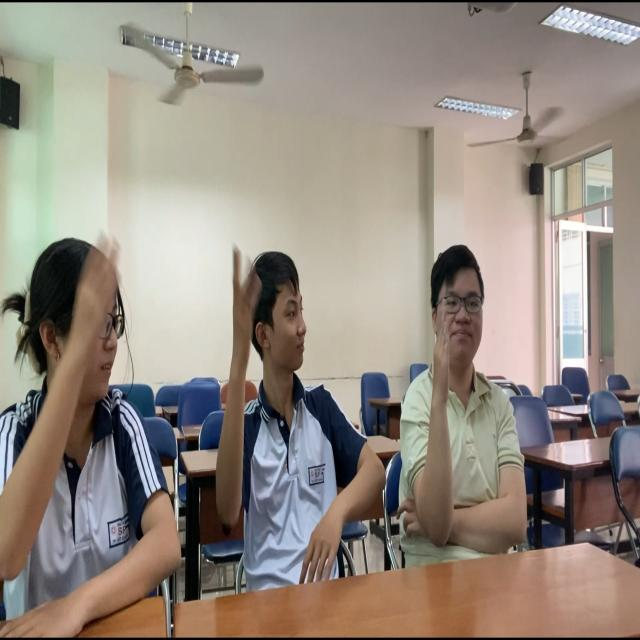raise_hand: (1, 231, 171, 637), (405, 231, 536, 562)
